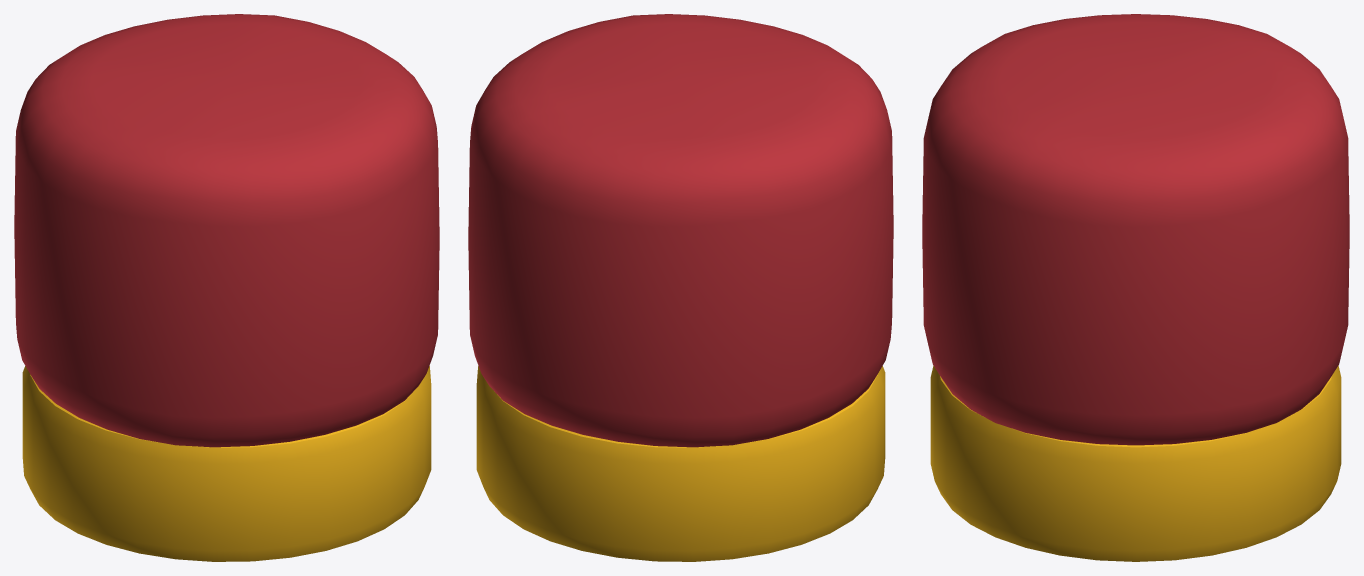
File: pufe_cilindro_vermelho.glb
3 renders of one model, left to right at view 1: azimuth 30°, elevation 25°; view 2: azimuth 150°, elevation 25°; view 3: azimuth 270°, elevation 25°, orthographic.
Visible parts, largest first — view 1: pufe_cilindro_vermelho; view 2: pufe_cilindro_vermelho; view 3: pufe_cilindro_vermelho.
Part boxes in pixels (x1,y1,x2,y2): pufe_cilindro_vermelho: [14, 14, 439, 561]; pufe_cilindro_vermelho: [468, 14, 893, 561]; pufe_cilindro_vermelho: [922, 14, 1349, 561].
Size of the model in its own units: 0.4 by 0.42 by 0.4.
1 material, 1 textured.
